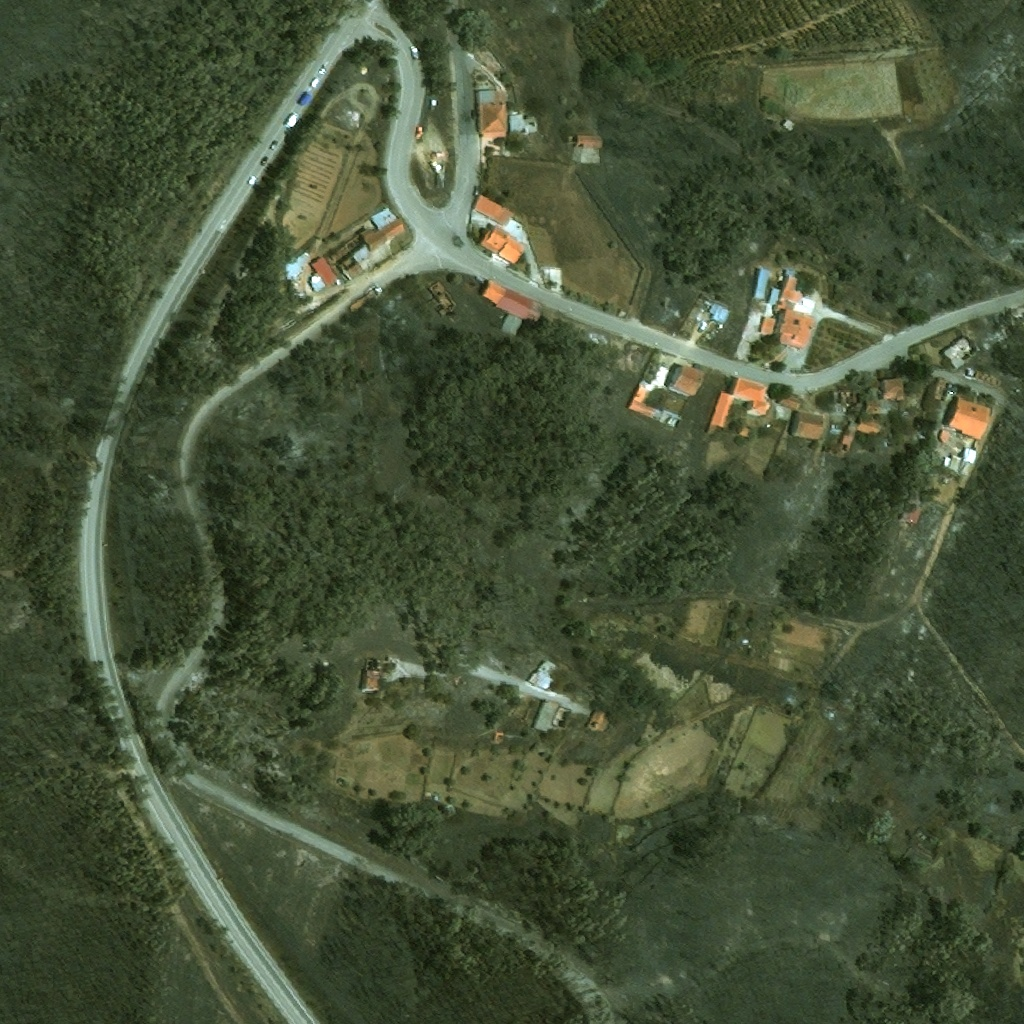0 no-damage: (478, 223, 526, 265), (948, 397, 993, 440), (358, 217, 408, 254), (496, 288, 543, 325), (526, 655, 568, 695), (777, 309, 815, 350), (625, 378, 661, 421), (476, 90, 505, 140), (733, 376, 770, 412), (944, 447, 980, 482), (670, 362, 703, 395), (709, 391, 736, 429), (280, 252, 310, 285), (309, 256, 340, 287), (368, 202, 400, 232), (469, 194, 503, 222), (530, 699, 557, 734), (702, 298, 732, 327), (796, 412, 825, 440), (779, 276, 804, 306), (509, 114, 536, 140), (750, 267, 770, 301), (499, 313, 523, 339), (480, 280, 504, 305), (899, 508, 924, 530), (857, 417, 884, 437), (883, 378, 905, 402), (548, 268, 564, 295), (792, 298, 816, 316), (780, 391, 802, 410), (574, 135, 602, 149), (757, 317, 776, 335), (777, 117, 795, 134), (471, 212, 488, 227), (766, 287, 779, 306), (310, 280, 326, 293), (937, 430, 951, 444), (739, 424, 752, 439), (866, 400, 879, 413), (310, 275, 320, 284)
2 major-damage: (943, 333, 981, 370), (837, 419, 860, 454), (931, 379, 953, 409), (551, 707, 574, 733), (658, 409, 684, 431), (585, 707, 605, 731), (595, 717, 608, 734), (491, 732, 505, 744)
3 destroyed: (326, 234, 376, 279), (427, 281, 455, 317), (827, 389, 861, 408), (360, 670, 379, 691), (374, 659, 396, 672), (975, 373, 984, 382)
4 un-classified: (444, 805, 450, 810)
